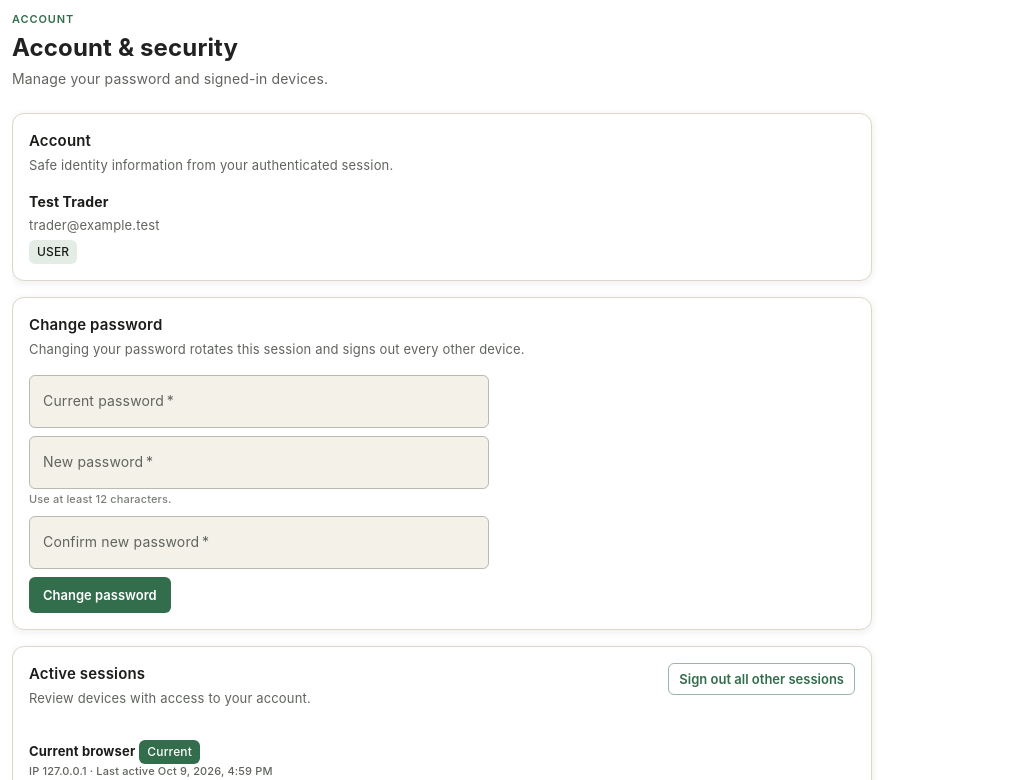
Scenario: Phase 5 account and session security UI › submits a password change and reports revoked sessions
The image size is (1036, 780).
Expected: the text "Current browser" is shown, [29,742,135,762]
Type "original-password-123" into the password field labelled "Current password *".
click(259, 401); type("original-password-123")  # box [29,375,489,428]
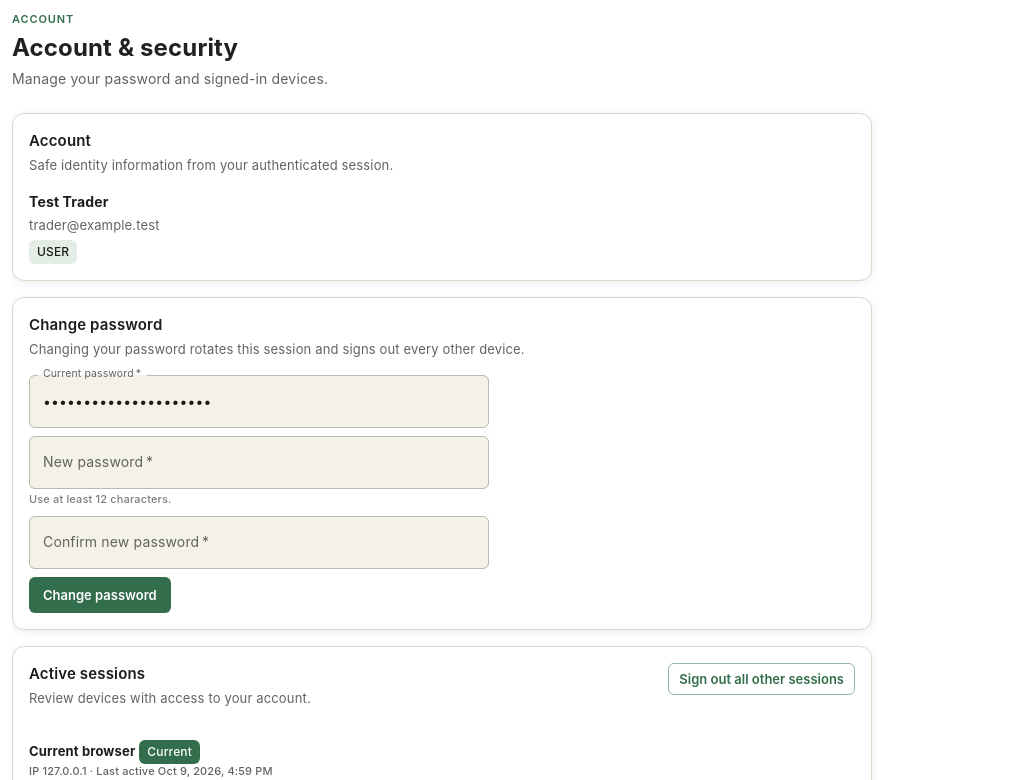
Type "new-password-value-123" into the password field labelled "New password *".
click(259, 462); type("new-password-value-123")  # box [29,436,489,489]
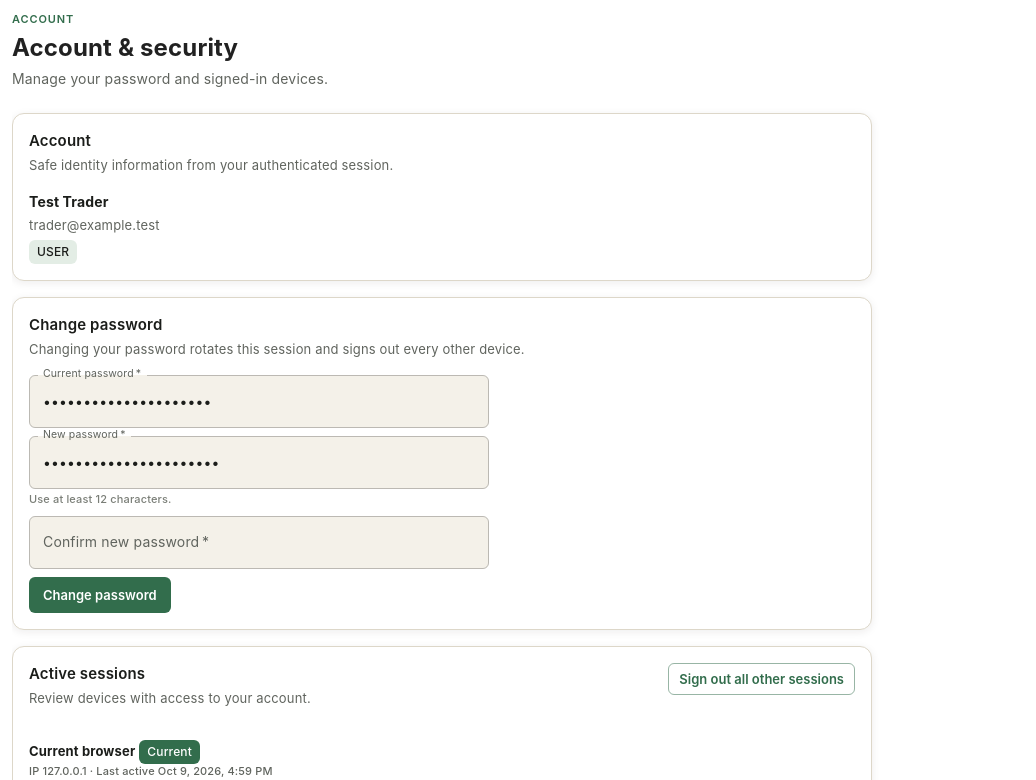
Type "new-password-value-123" into the password field labelled "Confirm new password *".
click(259, 542); type("new-password-value-123")  # box [29,516,489,569]
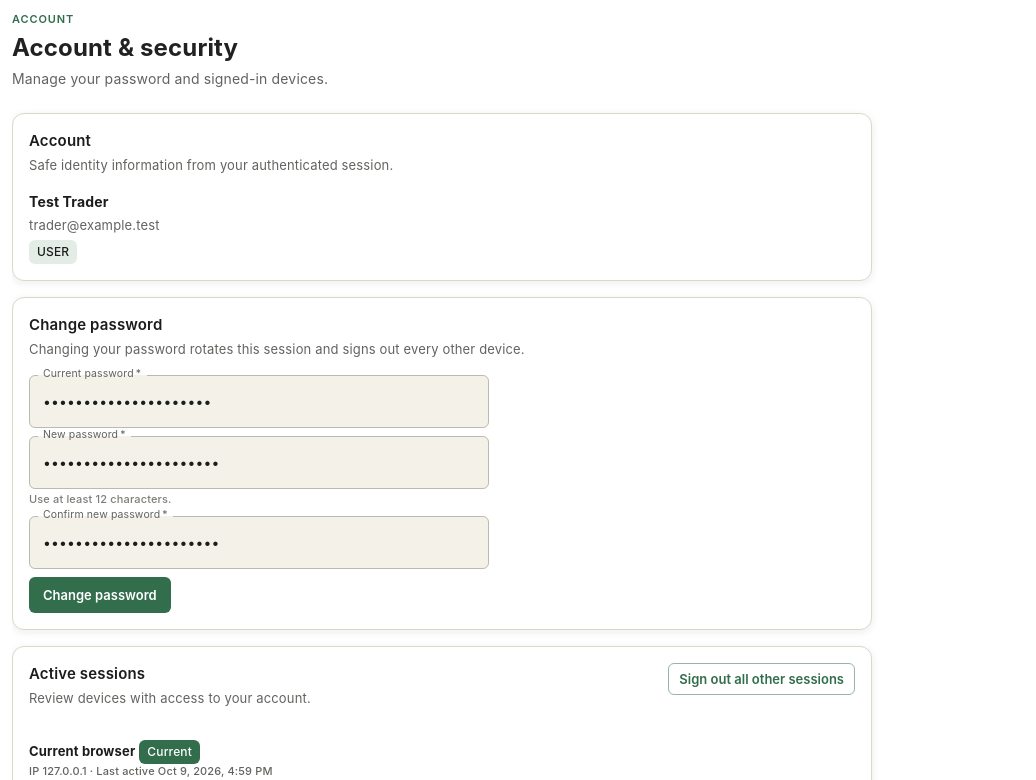
Click the button "Change password".
click(100, 595)  # box [29,577,171,613]
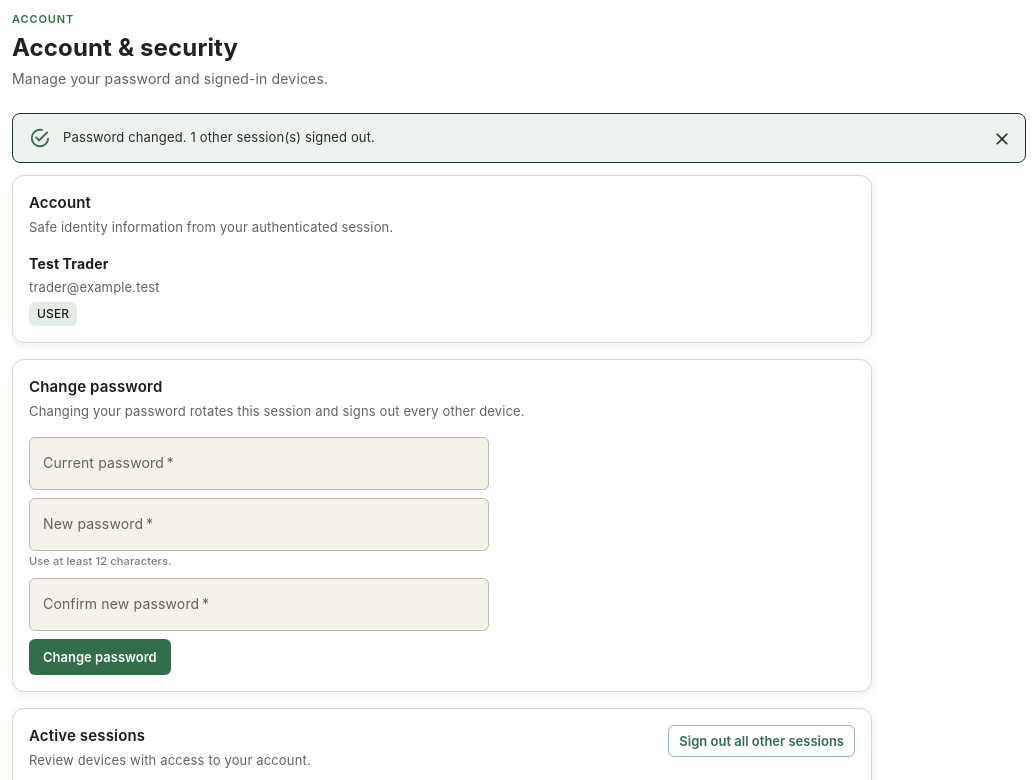
Now the text "Password changed. 1 other session(s) signed out." is shown, box [63,129,375,145]
